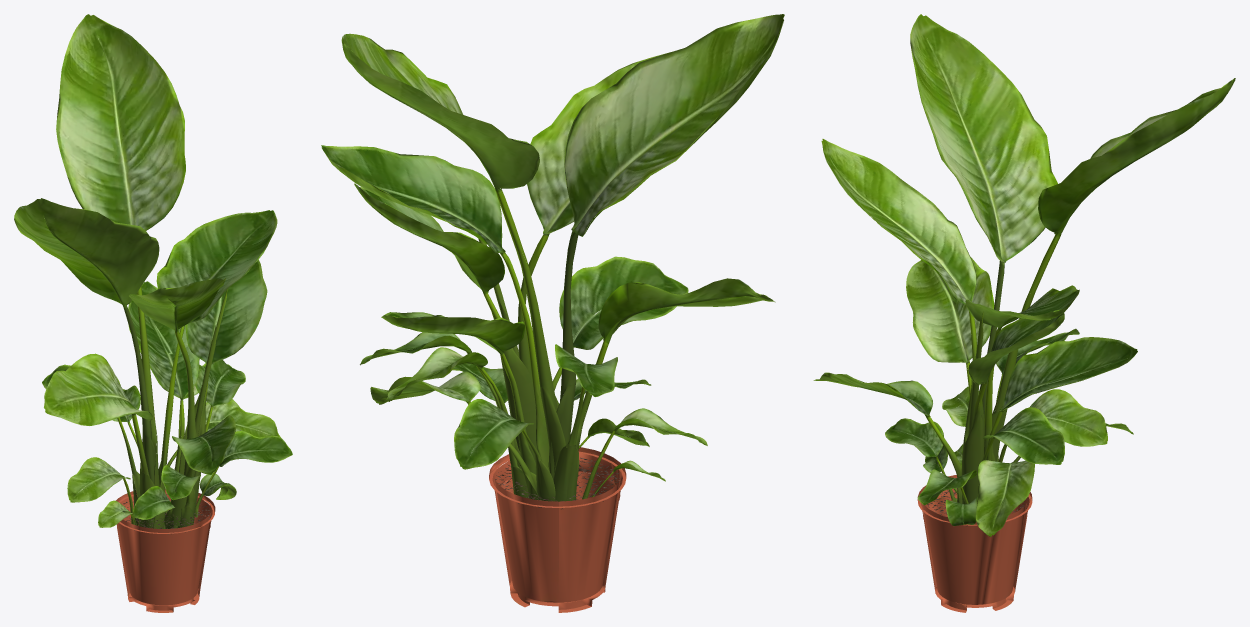
3 renders of one model, left to right at view 1: azimuth 30°, elevation 25°; view 2: azimuth 150°, elevation 25°; view 3: azimuth 270°, elevation 25°, orthographic. The views are drawn at different scales.
Parts seen in each view (by area): view 1: 1010; view 2: 1010; view 3: 1010.
Part boxes in pixels (x1,y1,x2,y2): 1010: (14,14,292,612); 1010: (321,14,784,612); 1010: (813,14,1235,612).
Bounding box in the file's own units: 0.5778 × 0.9175 × 0.6486.
1 material, 1 textured.
